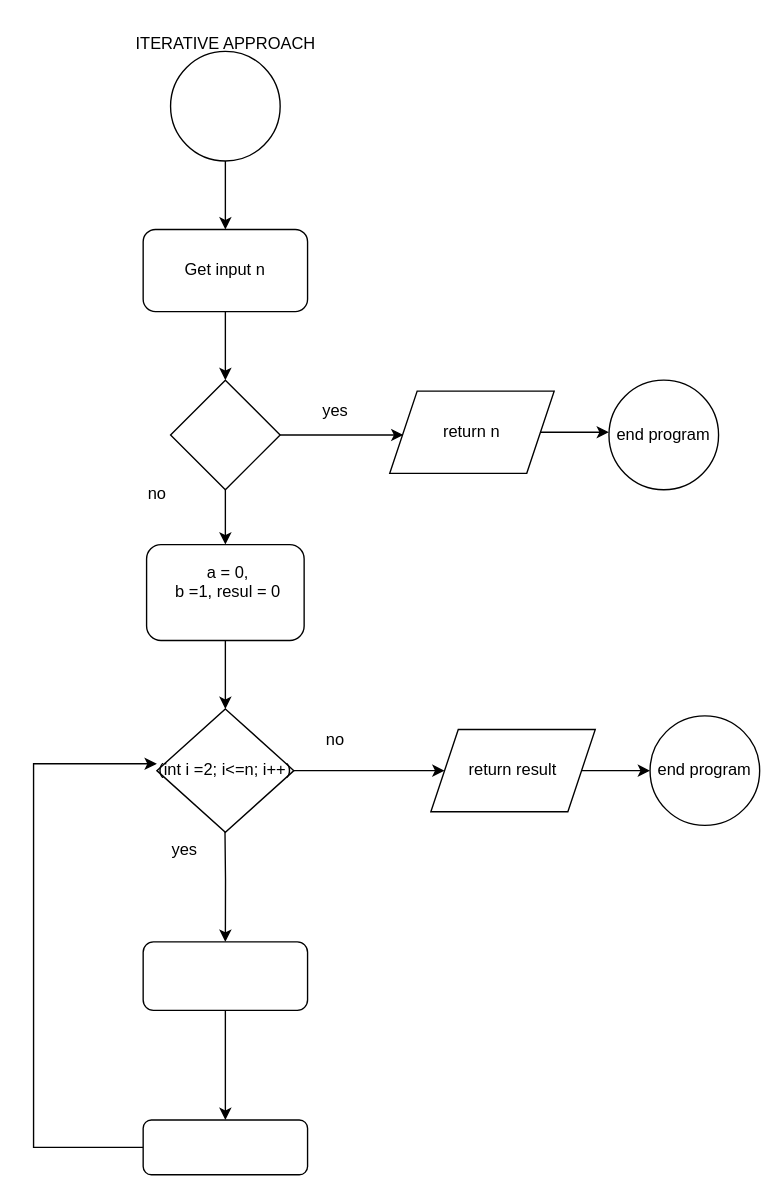
Some shapes in this 784 by 1199 pixel diagram are drawn without their labels. The centre of each missing label's shape, as x and y in pixels:
a = b b = result: the point at 225,1147
if n less or equals 1: the point at 224,434
result = a +b: the point at 225,975
Start: the point at 224,105
